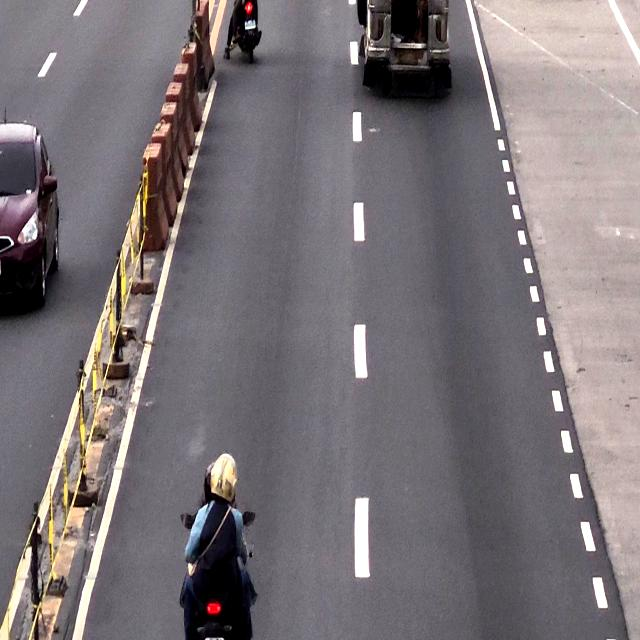Jeep: (356, 0, 450, 89)
Motorcycle: (180, 451, 254, 640)
